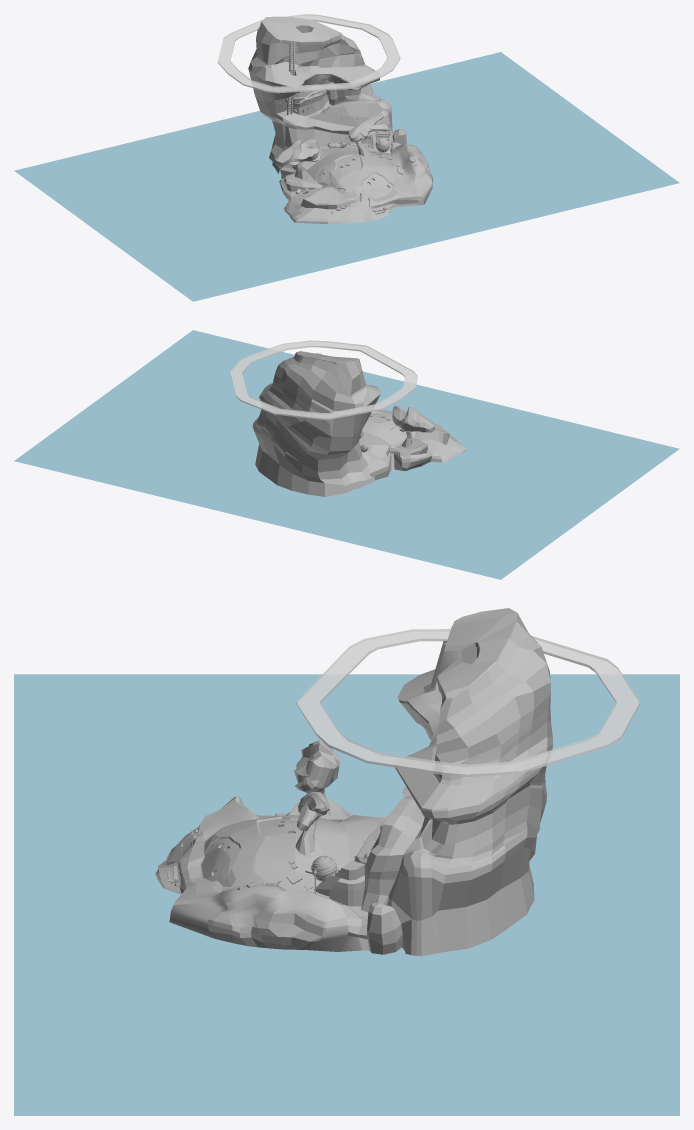
File: environment_seperate.fbx
3 renders of one model, top to bottom at view 1: azimuth 30°, elevation 25°; view 2: azimuth 150°, elevation 25°; view 3: azimuth 270°, elevation 25°, orthographic. The views are drawn at different scales.
Visible parts, largest first — view 1: Waterline, polySurface31, polySurface48, Cloud, polySurface8, polySurface14, polySurface7, polySurface10, polySurface12, polySurface2; view 2: Waterline, polySurface31, Cloud, polySurface48, polySurface7, polySurface8; view 3: Waterline, polySurface31, polySurface48, Cloud, polySurface14, polySurface7, polySurface20, polySurface8, polySurface2.
Part boxes in pixels (<box>): Waterline: <box>14,52,679,301</box>; polySurface31: <box>248,21,406,214</box>; polySurface48: <box>279,142,432,209</box>; Cloud: <box>217,14,400,93</box>; polySurface8: <box>284,189,398,223</box>; polySurface14: <box>261,16,342,42</box>; polySurface7: <box>275,114,388,165</box>; polySurface10: <box>285,83,331,116</box>; polySurface12: <box>276,110,376,138</box>; polySurface2: <box>362,173,393,198</box>; Waterline: <box>14,330,679,579</box>; polySurface31: <box>252,351,428,496</box>; Cloud: <box>230,340,417,419</box>; polySurface48: <box>359,409,449,480</box>; polySurface7: <box>392,406,434,432</box>; polySurface8: <box>414,435,466,462</box>; Waterline: <box>14,674,679,1115</box>; polySurface31: <box>166,616,553,956</box>; polySurface48: <box>169,796,385,951</box>; Cloud: <box>296,629,640,776</box>; polySurface14: <box>437,608,518,698</box>; polySurface7: <box>294,740,340,830</box>; polySurface20: <box>305,861,364,906</box>; polySurface8: <box>155,815,274,894</box>; polySurface2: <box>201,838,239,881</box>.
Size of the model in its own units: 1507 by 453 by 960.
